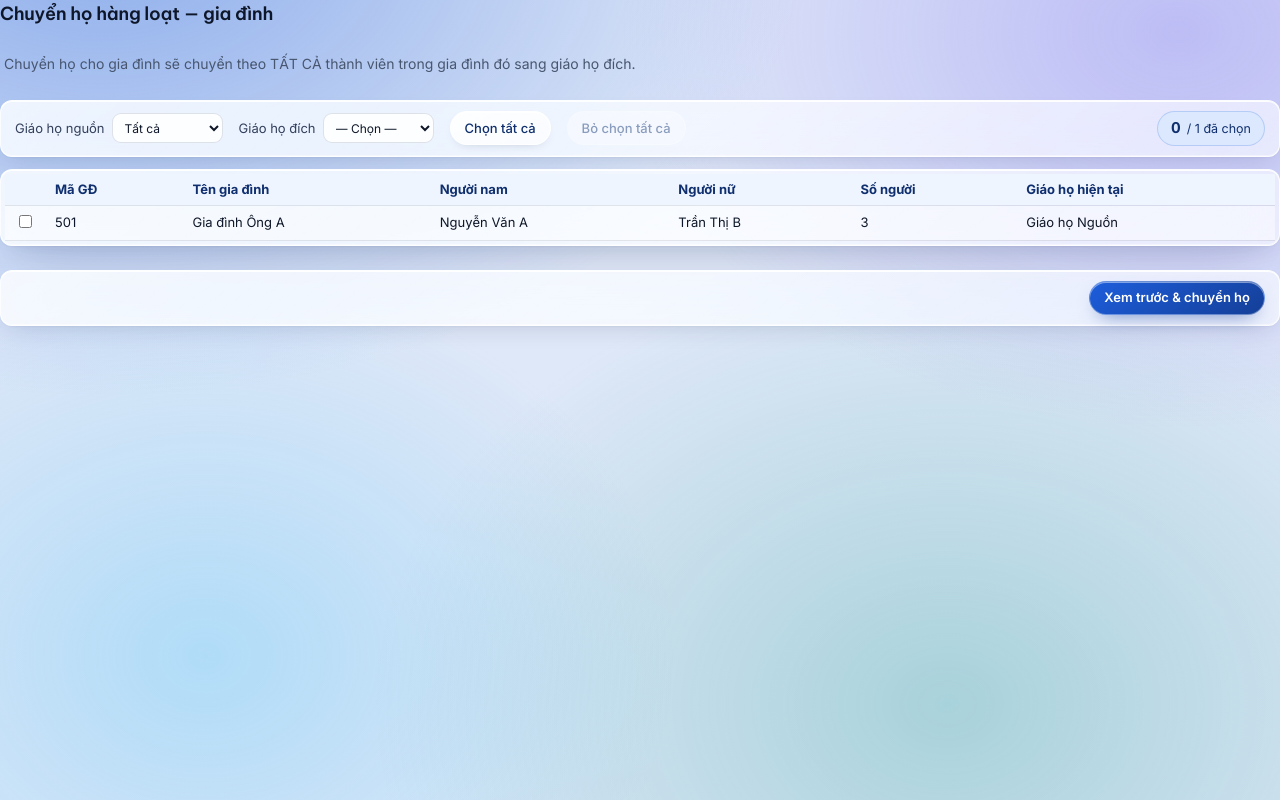
Test: ChuyenHoGiaDinh › loi mang khi doi bo loc giao ho nguon thi BAO LOI, khong am tham giu danh sach CU (Cao #2)
Expected: the text "Gia đình Ông A" is shown, top-left (182, 206), bottom-right (430, 240)
Step 1. Select "Giáo họ Đích" in the dropdown labelled "Giáo họ nguồn" → x=167, y=128, box top-left (112, 113), bottom-right (223, 143)
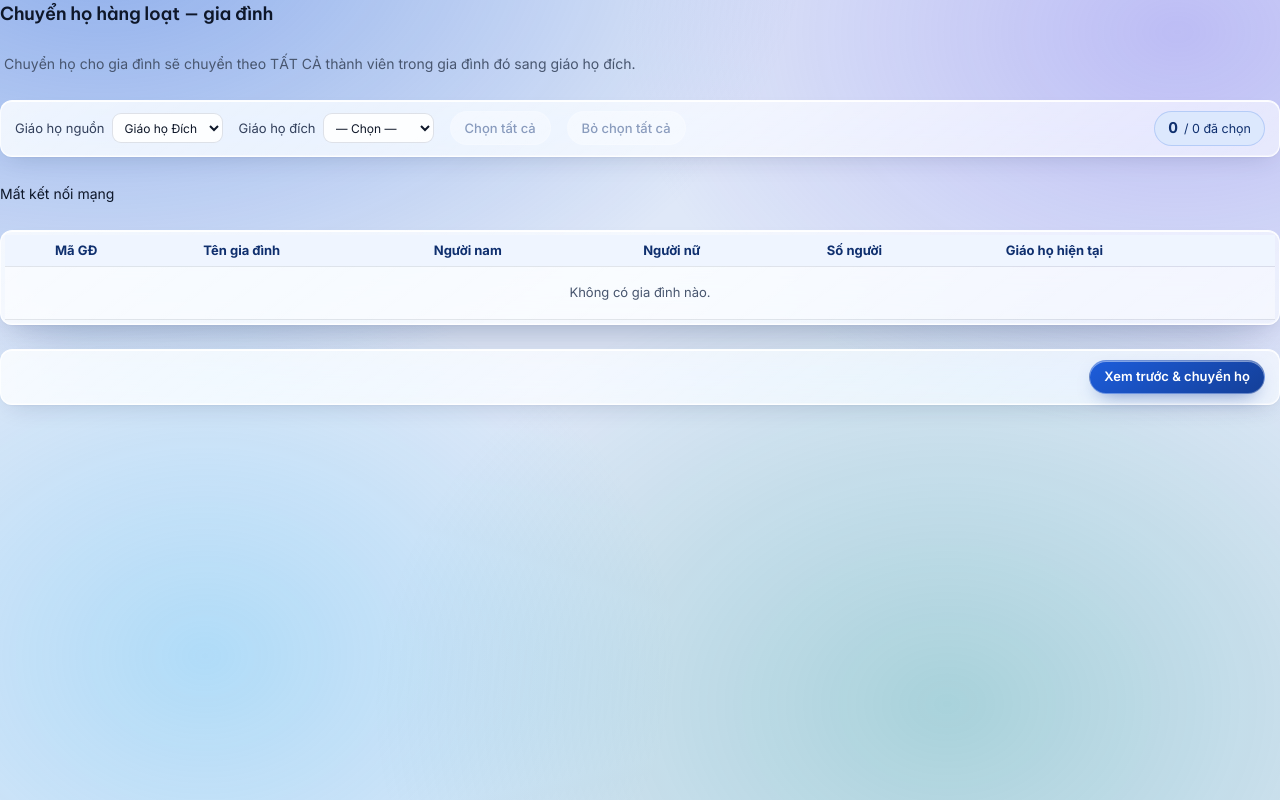
Expected: the message "Mất kết nối mạng" is shown, top-left (0, 184), bottom-right (114, 202)
Expected: the text "Gia đình Ông A" is gone
